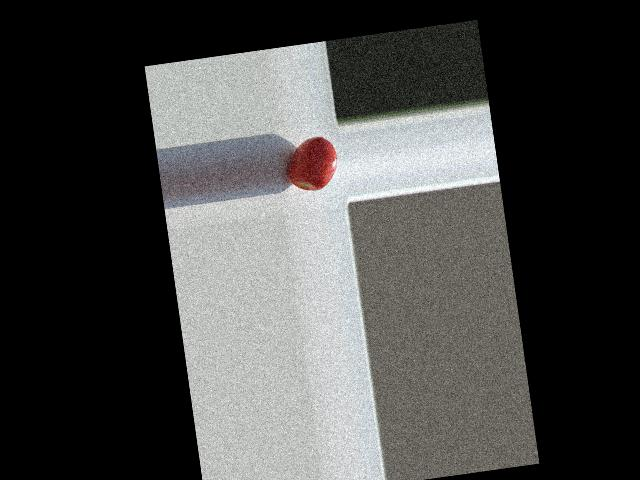tomato: (284, 134, 341, 193)
